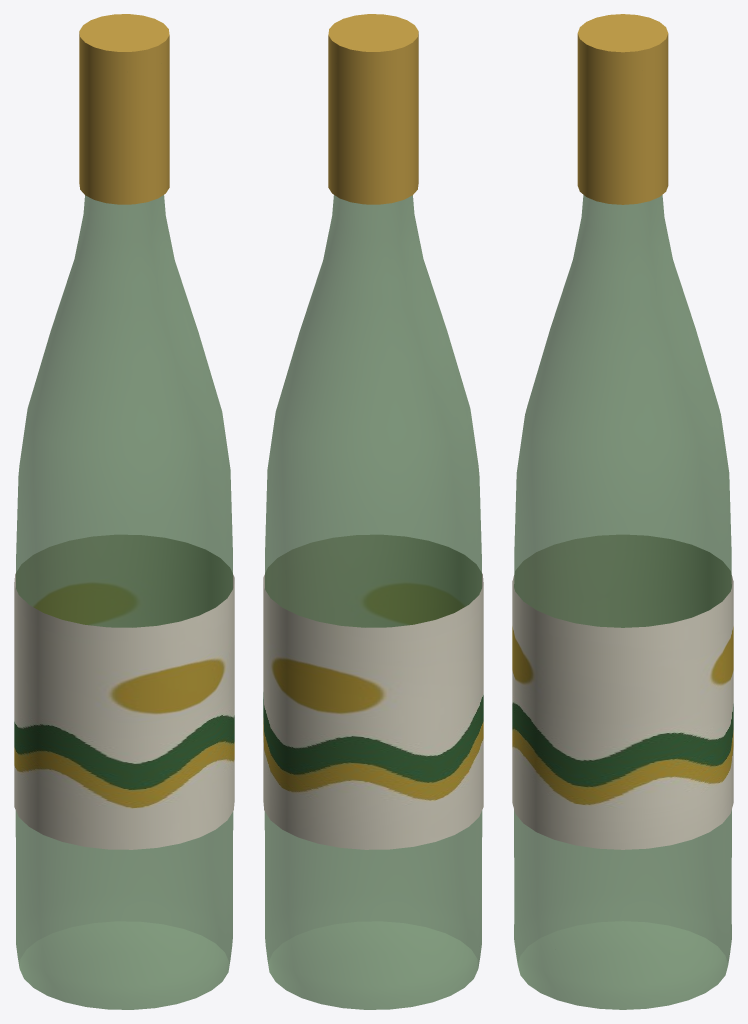
Rendered from bottle_wine_white_hock.glb.
3 renders of one model, left to right at view 1: azimuth 30°, elevation 25°; view 2: azimuth 150°, elevation 25°; view 3: azimuth 270°, elevation 25°, orthographic.
Parts seen in each view (by area): view 1: bottle_wine_white_hock; view 2: bottle_wine_white_hock; view 3: bottle_wine_white_hock.
Boxes of the visible parts, box(x1,y1,x2,y2) form: bottle_wine_white_hock: box(14, 14, 234, 1009); bottle_wine_white_hock: box(263, 14, 483, 1009); bottle_wine_white_hock: box(512, 14, 733, 1009).
Size of the model in its own units: 0.0722 by 0.3379 by 0.0722.
3 materials, 1 textured.
